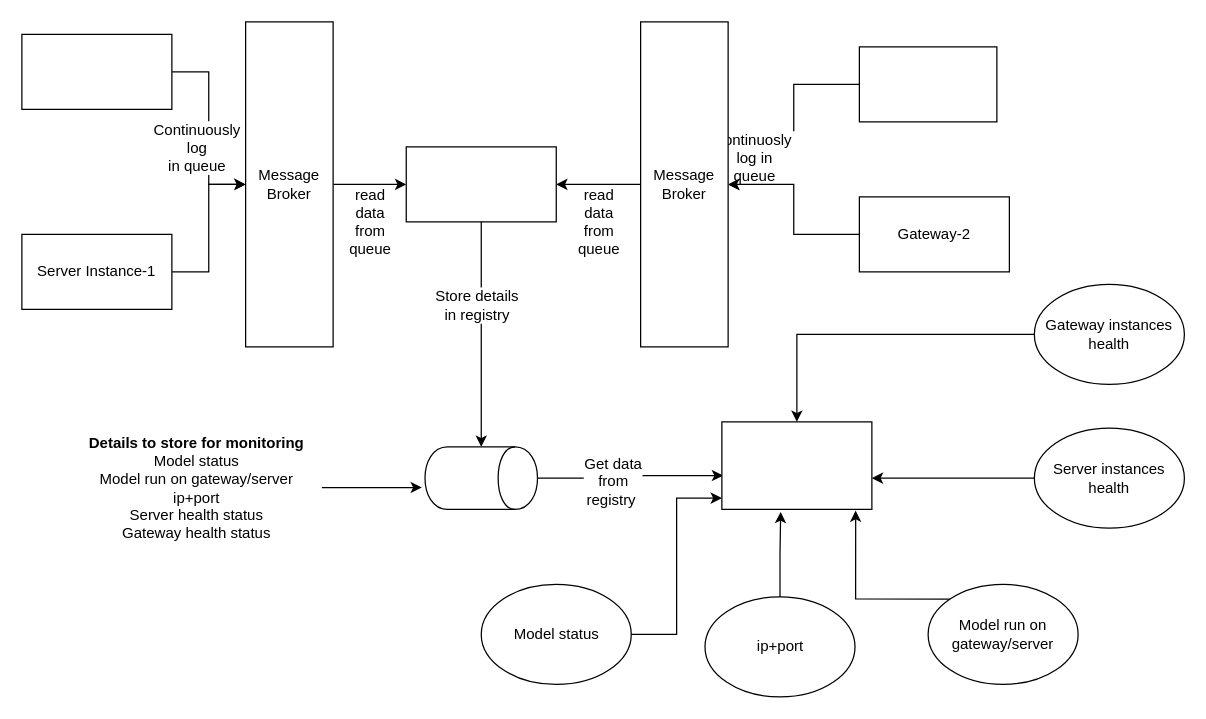
Image size: 1206x719. Some labels were removed from this diagram. The box of each missing label's shape, as (x1, y1, x2, y2) in pixels:
Central Server: (405, 146, 556, 222)
Gateway-1: (858, 46, 997, 122)
Monitoring: (721, 421, 872, 509)
Registry: (424, 446, 538, 509)
Server Instance-2: (21, 33, 172, 109)
